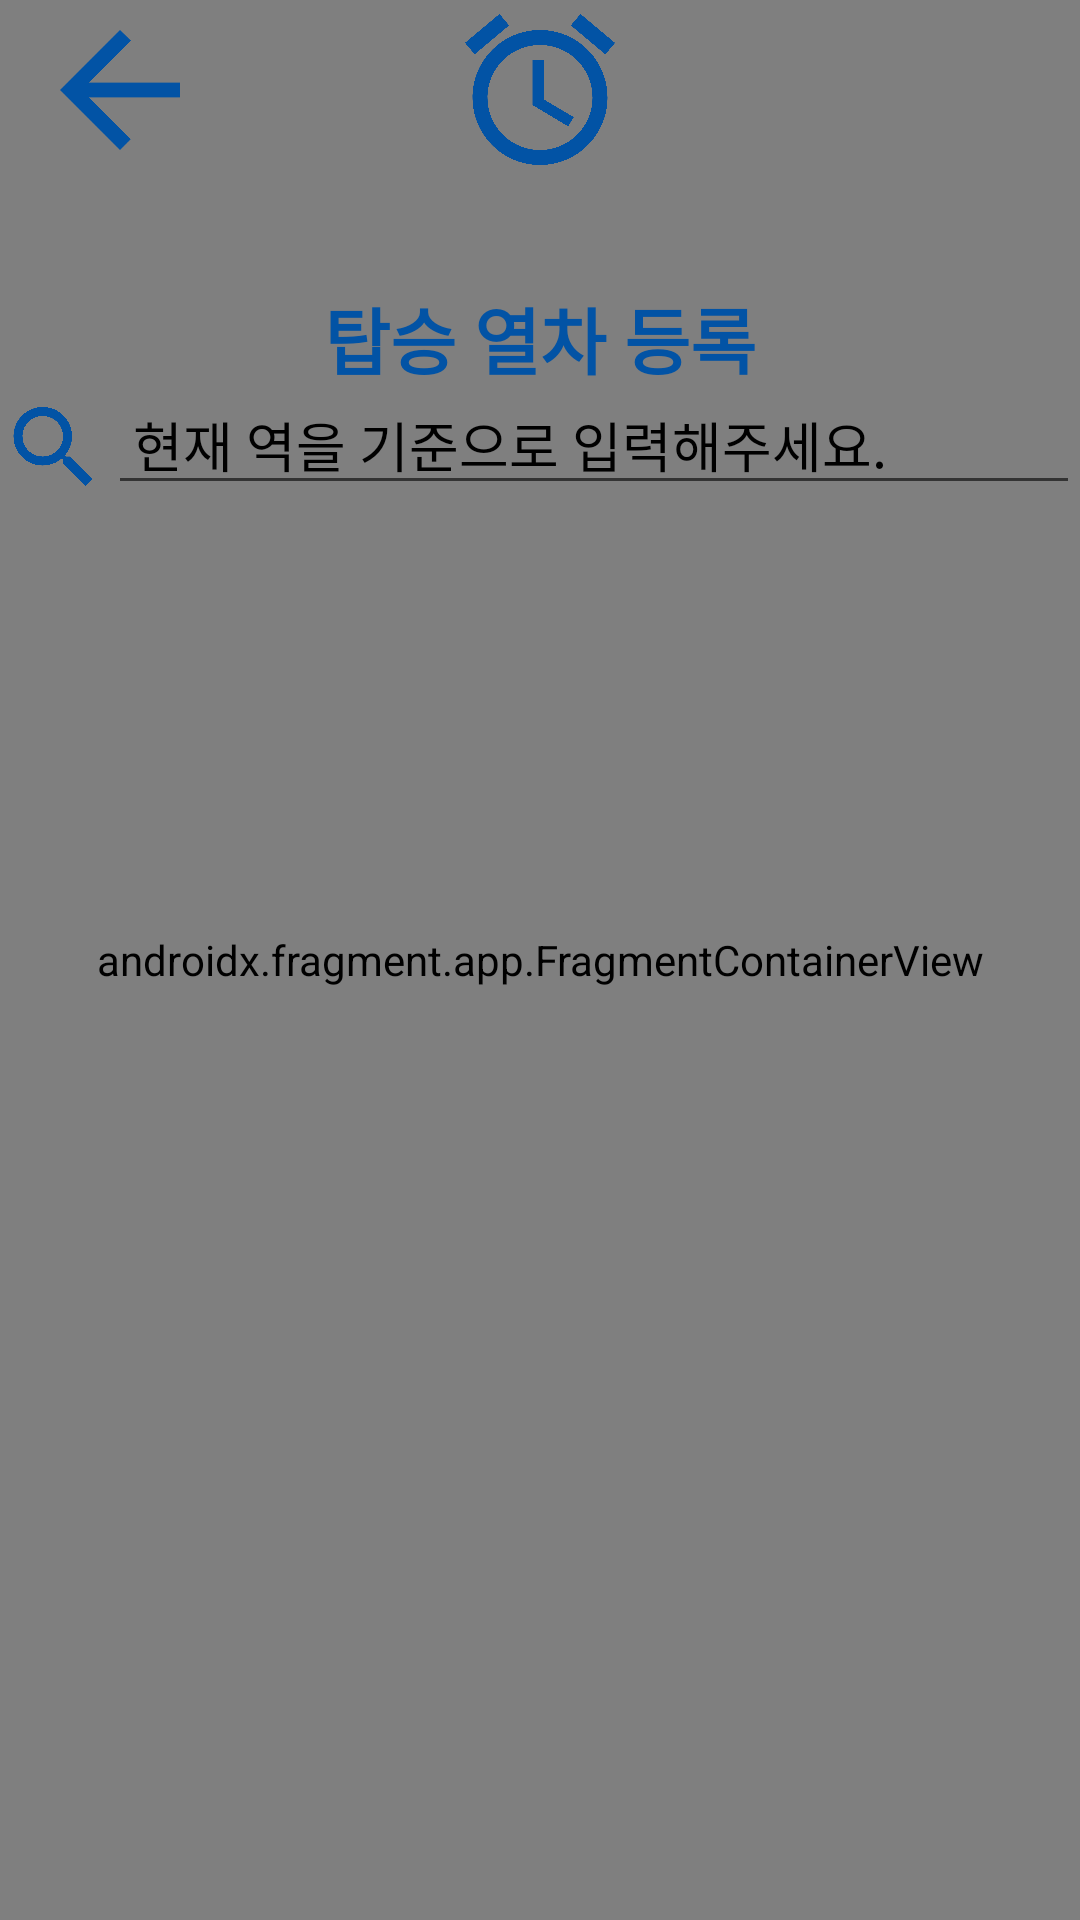

Named icons in this screenshot (1080*1920) and their bounding boxes, (x1, y1, x2, y2):
access alarm: (465, 14, 615, 165)
